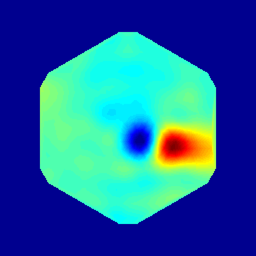ship: (128, 129, 158, 149)
wave: (153, 136, 206, 154)
